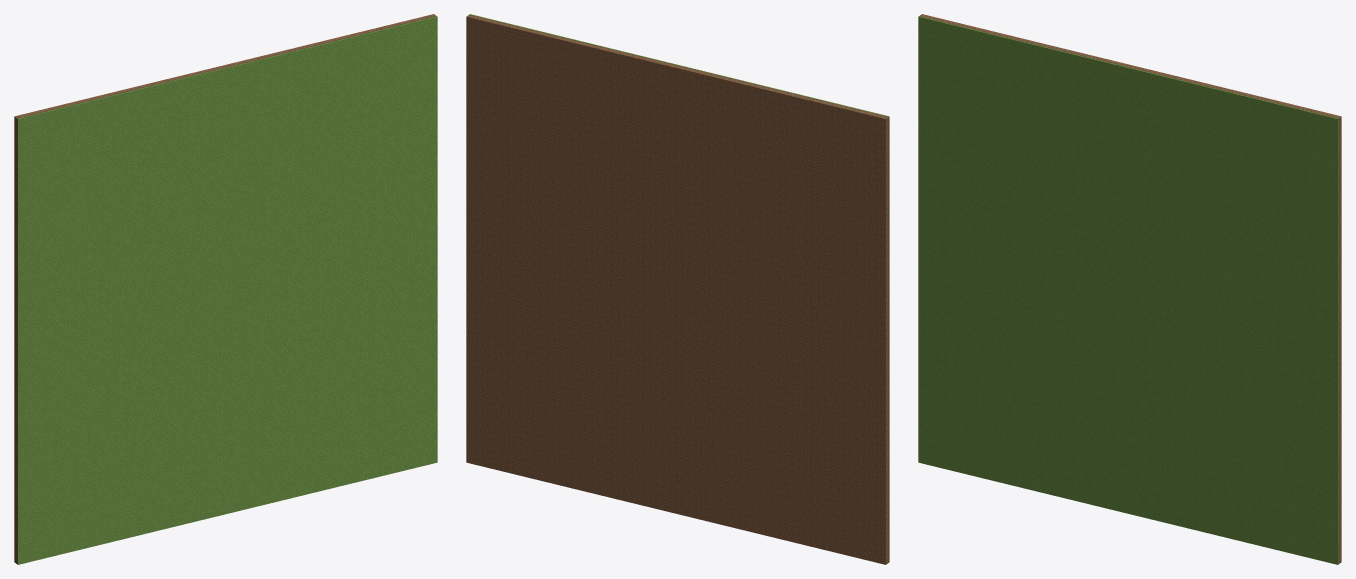
The picture shows the model from 3 angles, left to right: view 1: azimuth 30°, elevation 25°; view 2: azimuth 150°, elevation 25°; view 3: azimuth 330°, elevation 25°; orthographic projection.
Parts seen in each view (by area): view 1: world__138_-40_-818_to_202_319_-753; view 2: world__138_-40_-818_to_202_319_-753; view 3: world__138_-40_-818_to_202_319_-753.
Part boxes in pixels (<box>): world__138_-40_-818_to_202_319_-753: <box>14,14,437,564</box>; world__138_-40_-818_to_202_319_-753: <box>466,14,889,564</box>; world__138_-40_-818_to_202_319_-753: <box>918,14,1341,564</box>.
Size of the model in its own units: 130 by 132 by 2.
Materials: 1 (1 with a texture image).
